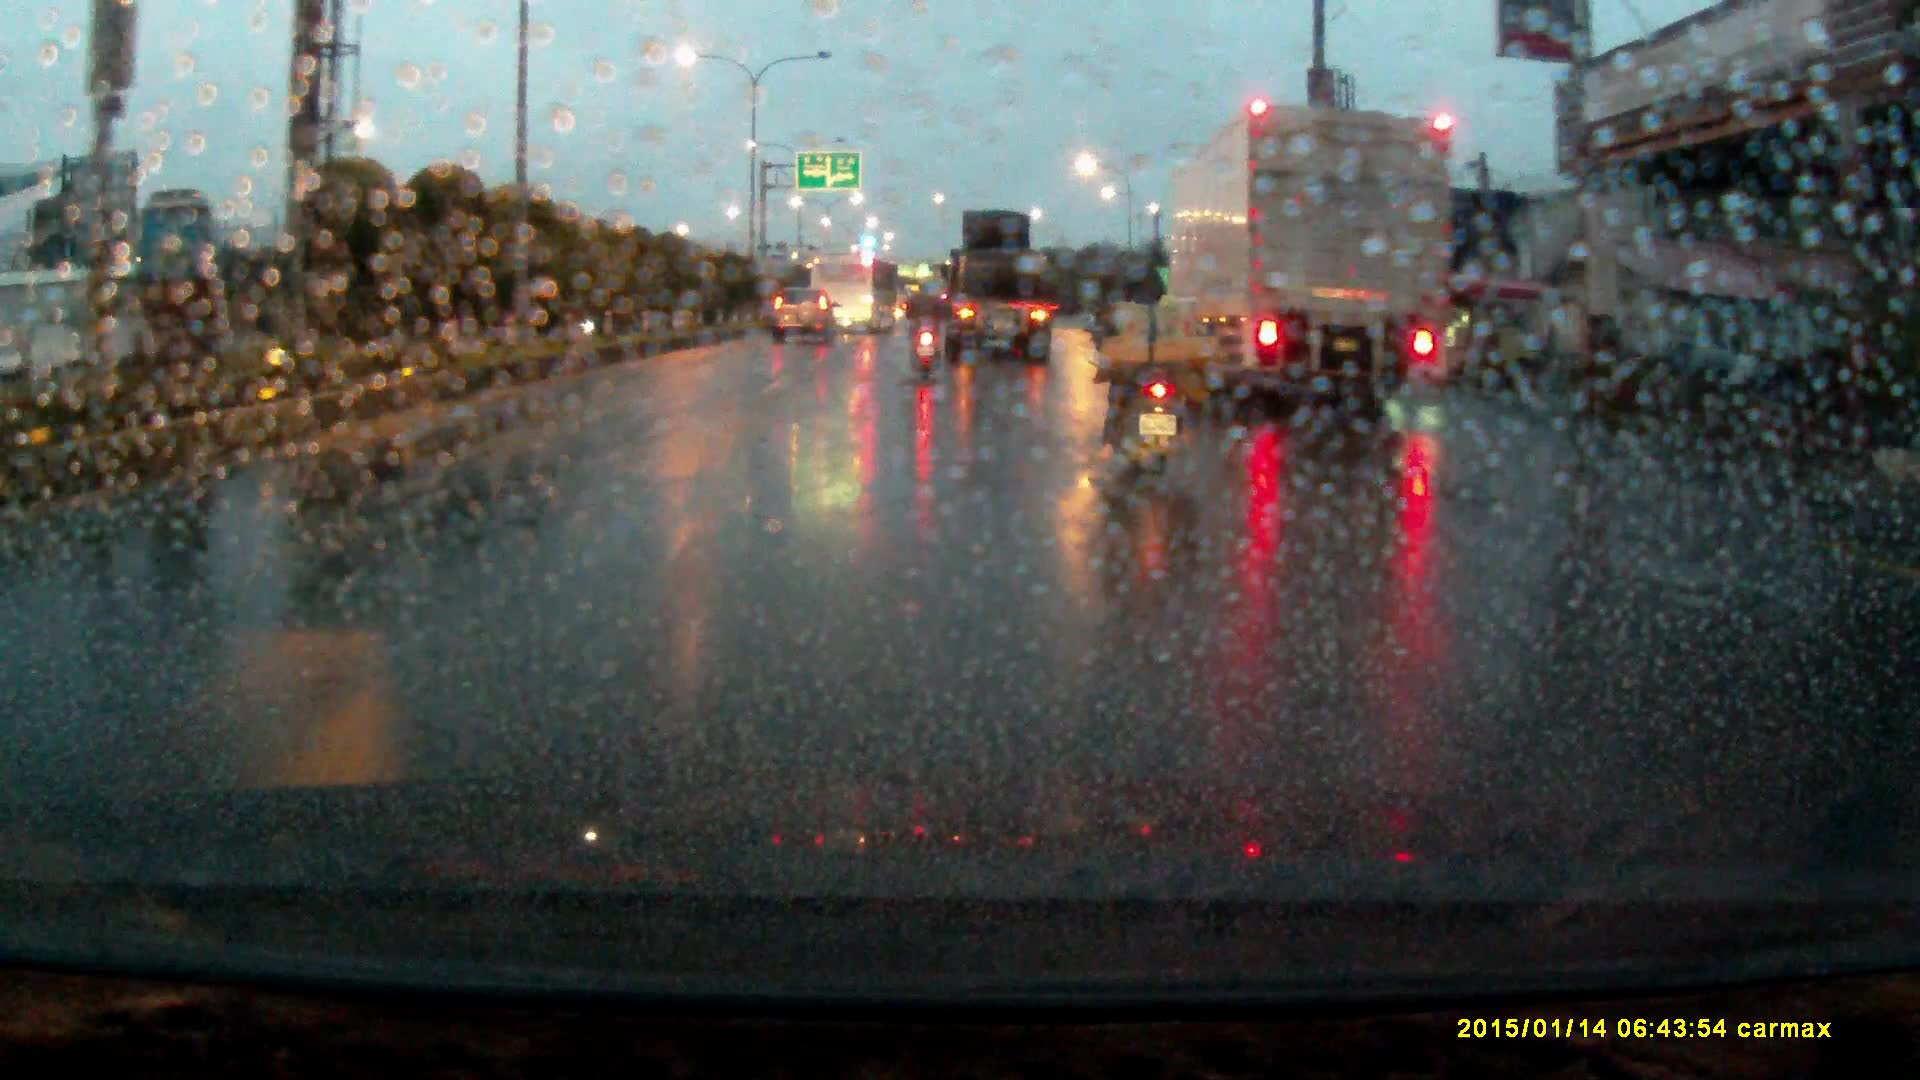rider: (1091, 253, 1208, 500), (907, 274, 947, 382)
vehicle: (1155, 98, 1460, 418), (938, 207, 1057, 365), (809, 254, 878, 336), (769, 290, 839, 353)
